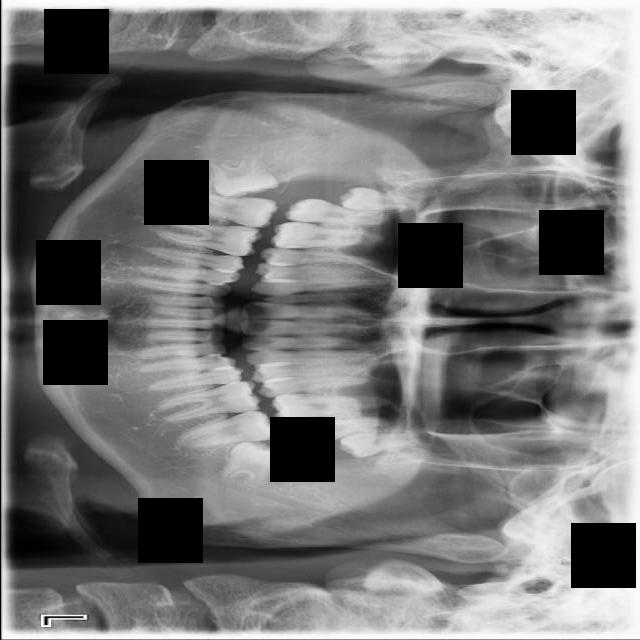3M ESPE Implant: (337, 186, 411, 213)
73: (24, 613, 34, 623)
BioHorizons Implant: (284, 417, 383, 447)
BioLife Implant: (337, 430, 416, 460)
Biomet 3i Implant: (219, 433, 294, 495)
Blue Sky Bio Implant: (176, 408, 278, 449)
Caries: (281, 195, 392, 230)
Implant: (179, 188, 278, 230)
Keystone Dental Implant: (209, 152, 280, 200)
